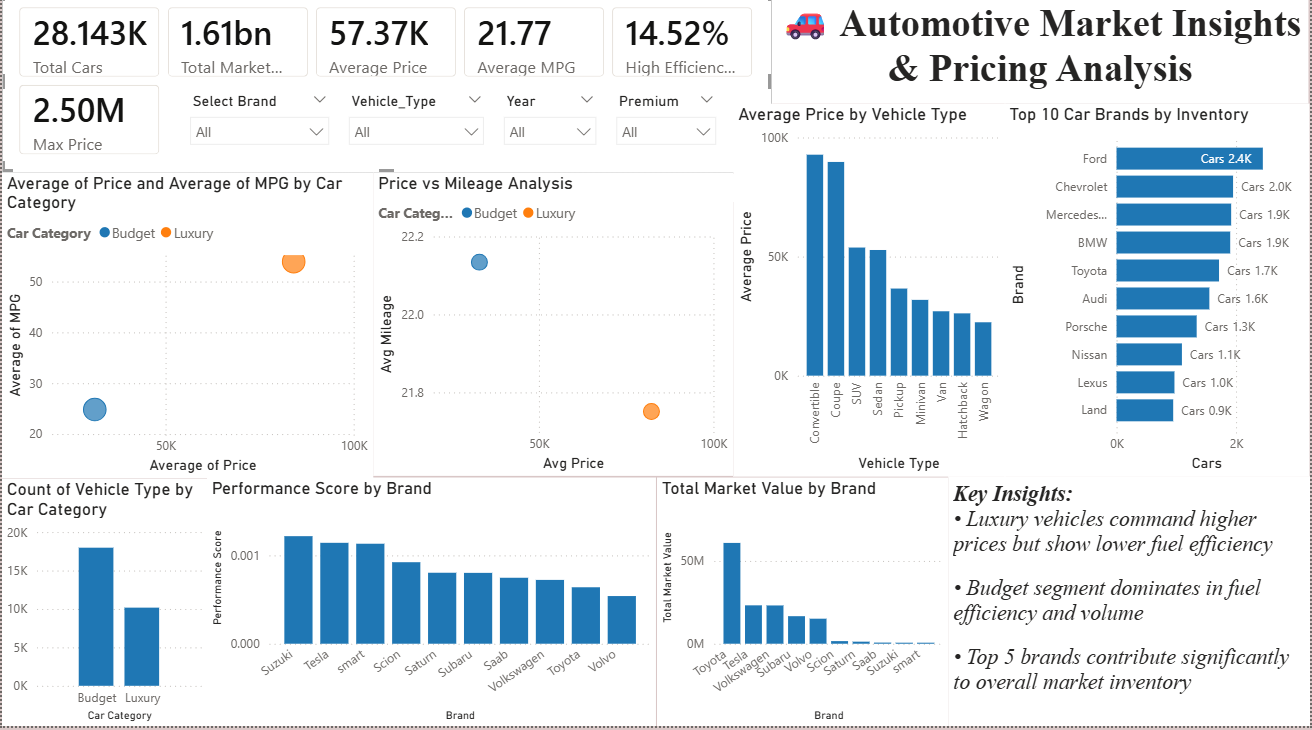

This screenshot's page, from the dashboard's own definition file:
{"tool":"powerbi","page":{"name":"Page 1","canvas":[1280,720],"ordinal":0},"visuals":[{"type":"cardVisual","fields":{"Data":["Cars.Total Cars","Cars.Total Revenue","Cars.Avg Price","Cars.Avg Mileage","Cars.High MPG %","Cars.Max Price"]},"box":[0,0,753.8,178.8],"z":0},{"type":"clusteredColumnChart","fields":{"Y":["Cars.Avg Price"],"Category":["Cars.Vehicle_Type"]},"box":[715,111.2,266.2,365],"z":1000},{"type":"scatterChart","title":"Price vs Mileage Analysis","fields":{"Series":["Cars.Car Category"],"Y":["Cars.Avg Mileage"],"X":["Cars.Avg Price"]},"box":[363,179,352,297],"z":3000},{"type":"textbox","box":[925.7,475.7,354.6,244.6],"z":5000},{"type":"textbox","box":[753.8,0,525,111.2],"z":6000},{"type":"clusteredBarChart","title":"Top 10 Car Brands by Inventory","fields":{"Category":["Cars.Brand"],"Y":["Cars.Count of Cars"]},"box":[981.2,111.2,298.8,365],"z":7000},{"type":"scatterChart","fields":{"X":["Avg(Cars.Price)"],"Y":["Avg(Cars.MPG)"],"Series":["Cars.Car Category"]},"box":[0,178.5,363.2,299.6],"z":8000},{"type":"columnChart","fields":{"Category":["Cars.Car Category"],"Y":["CountNonNull(Cars.Vehicle_Type)"]},"box":[0,477.7,201.1,242.6],"z":9000},{"type":"columnChart","fields":{"Category":["Cars.Brand"],"Y":["Cars.Total Market Value"]},"box":[640.4,476.6,285.1,243.6],"z":10000},{"type":"columnChart","fields":{"Y":["Cars.Performance Score"],"Category":["Cars.Brand"]},"box":[201.1,476.6,439.4,243.6],"z":11000},{"type":"group","id":"g1","title":"Group 1","box":[173.8,95,535,75],"z":12000},{"type":"slicer","fields":{"Values":["Cars.Premium"]},"box":[590.8,95,118,66.1],"z":12000,"group":"g1"},{"type":"slicer","fields":{"Values":["Cars.Year"]},"box":[480.8,95,110.9,75],"z":13000,"group":"g1"},{"type":"slicer","fields":{"Values":["Cars.Vehicle_Type"]},"box":[329.1,95,152.6,75],"z":14000,"group":"g1"},{"type":"slicer","fields":{"Values":["Cars.Brand"]},"box":[173.8,95,156.2,73.2],"z":15000,"group":"g1"}]}

Visuals, with their boxes in screenshot pixels (x1, y1, x2, y2), scaled from the page's 1280x720 canvas onto the 1312x730 screenshot:
cardVisual - Cars.Total Cars x Cars.Total Revenue: l=0, t=0, r=773, b=181
clusteredColumnChart - Cars.Avg Price x Cars.Vehicle_Type: l=733, t=113, r=1006, b=483
"Price vs Mileage Analysis" scatterChart: l=372, t=181, r=733, b=483
textbox: l=949, t=482, r=1311, b=729
textbox: l=773, t=0, r=1311, b=113
"Top 10 Car Brands by Inventory" clusteredBarChart: l=1006, t=113, r=1311, b=483
scatterChart - Avg(Cars.Price) x Avg(Cars.MPG): l=0, t=181, r=372, b=485
columnChart - Cars.Car Category x CountNonNull(Cars.Vehicle_Type): l=0, t=484, r=206, b=729
columnChart - Cars.Brand x Cars.Total Market Value: l=656, t=483, r=949, b=729
columnChart - Cars.Performance Score x Cars.Brand: l=206, t=483, r=657, b=729
"Group 1" group: l=178, t=96, r=727, b=172
slicer - Cars.Premium: l=606, t=96, r=727, b=163
slicer - Cars.Year: l=493, t=96, r=606, b=172
slicer - Cars.Vehicle_Type: l=337, t=96, r=494, b=172
slicer - Cars.Brand: l=178, t=96, r=338, b=171
